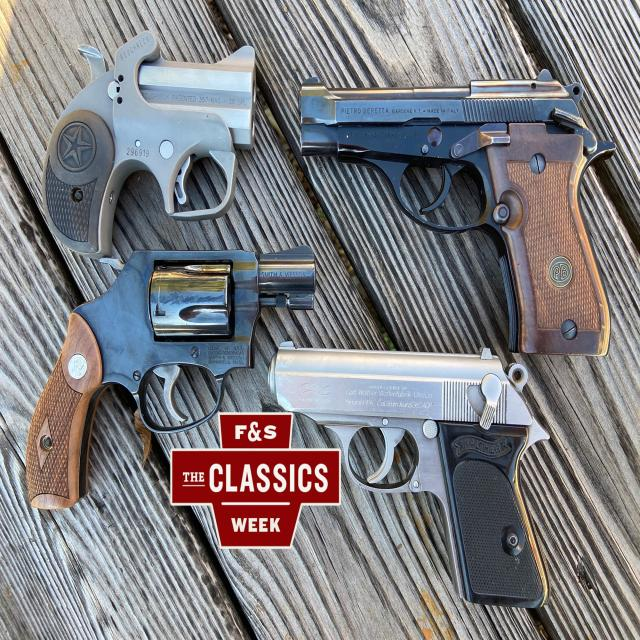HandGun: (300, 70, 618, 356), (26, 246, 316, 510), (272, 349, 550, 609), (44, 32, 255, 253)
